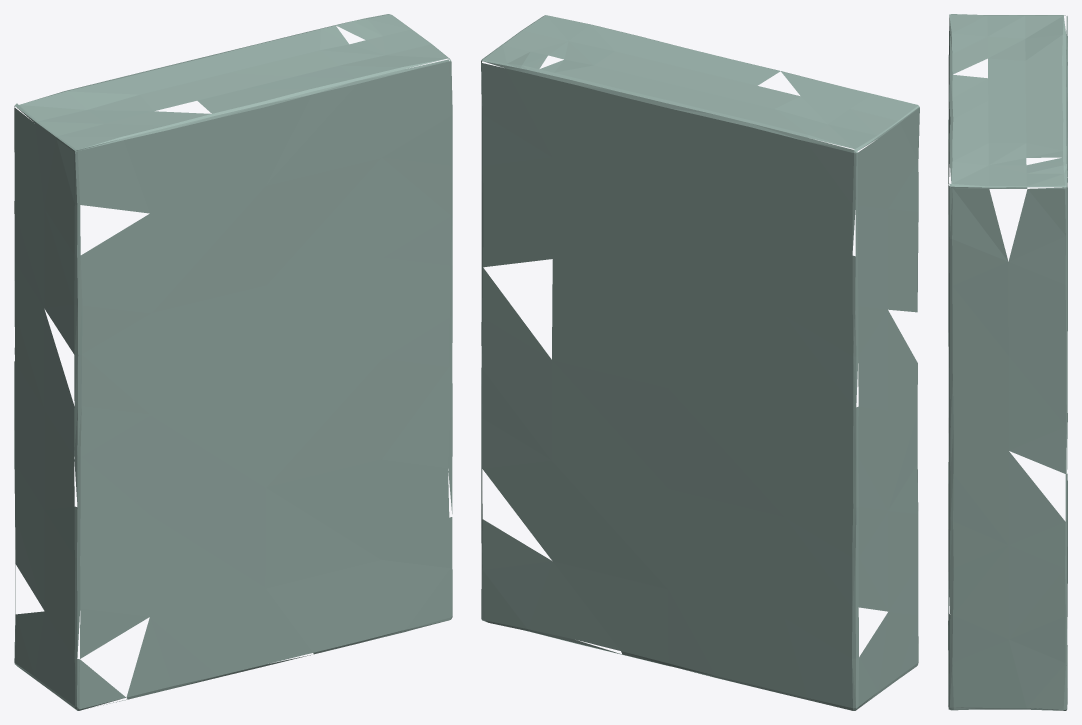
Rendered from pack_paper_office_gray_a01.glb.
The picture shows the model from 3 angles, left to right: view 1: azimuth 30°, elevation 25°; view 2: azimuth 150°, elevation 25°; view 3: azimuth 270°, elevation 25°; orthographic projection. The views are drawn at different scales.
Visible parts, largest first — view 1: geometry_0; view 2: geometry_0; view 3: geometry_0.
Boxes of the visible parts, x1,y1,x2,y2 form: geometry_0: (14,14,452,710); geometry_0: (481,15,919,710); geometry_0: (948,14,1067,710).
Size of the model in its own units: 0.3361 by 0.48 by 0.0983.
